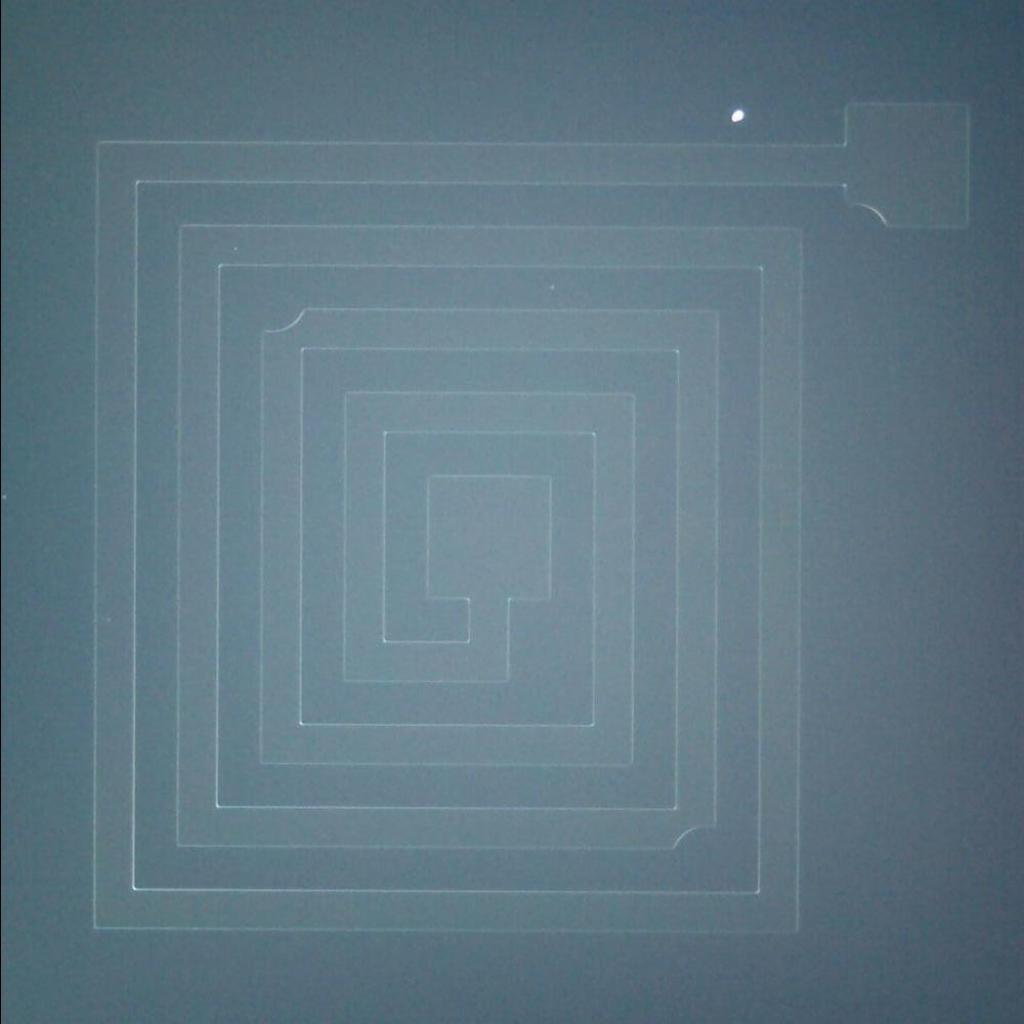curve circuit: (831, 185, 900, 243), (249, 296, 313, 343), (663, 816, 726, 862)
spot: (723, 100, 751, 126)
